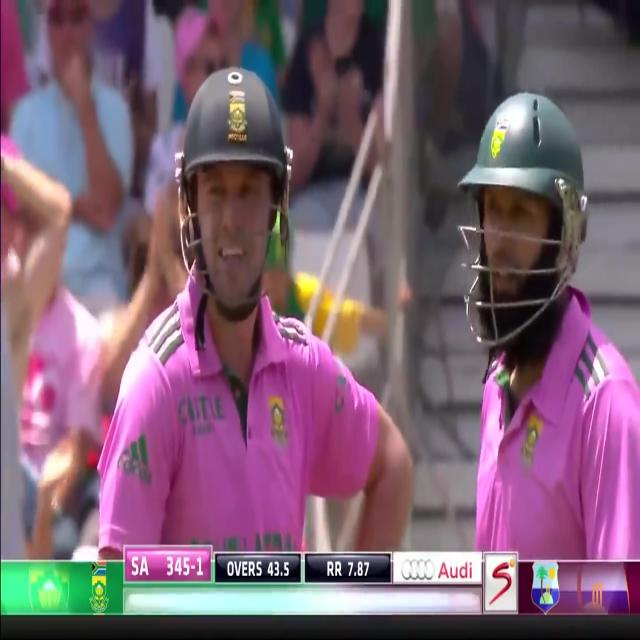Ball: (99, 61, 407, 552), (464, 104, 640, 557)
